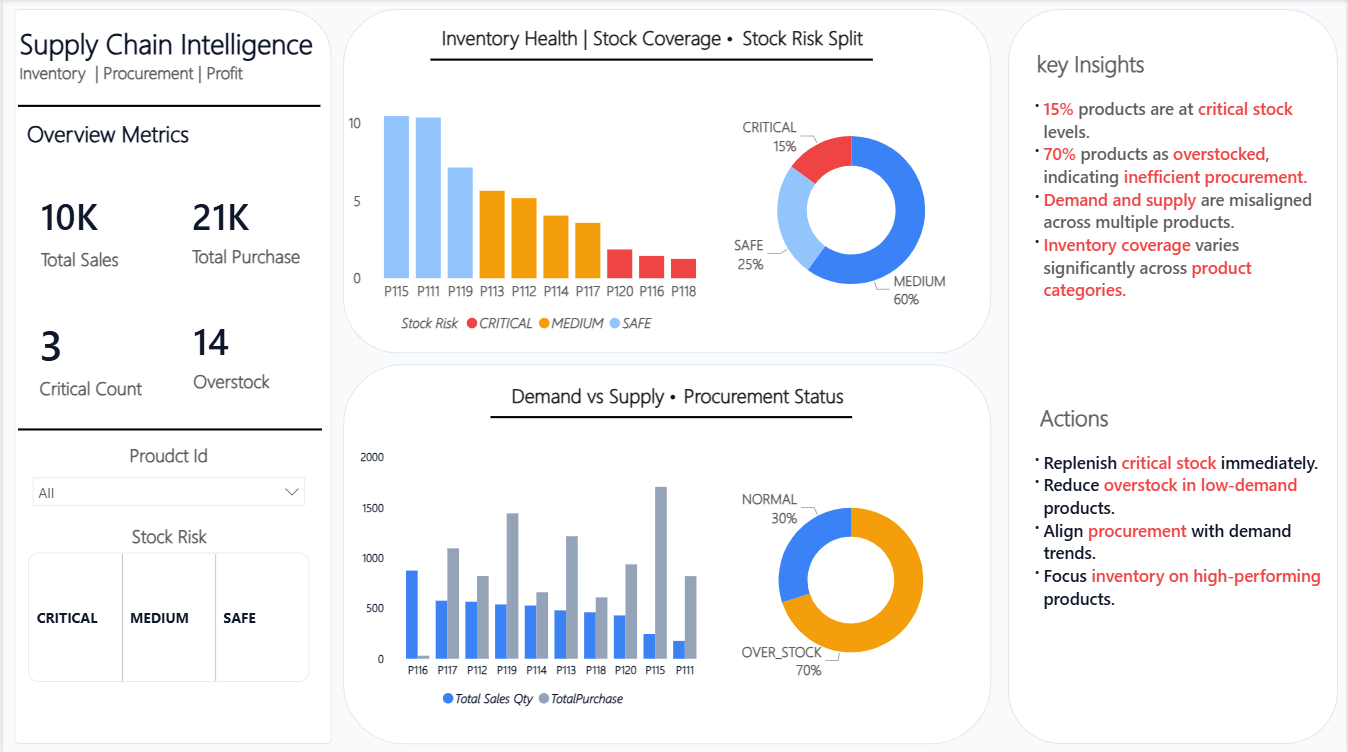

The dashboard page shown, as its layout file describes it:
{"tool":"powerbi","page":{"name":"Inventory and demenad","canvas":[1280,720],"ordinal":0},"visuals":[{"type":"shape","box":[10.7,9.5,302.4,700],"z":0},{"type":"textbox","box":[10.7,19,291.7,76.2],"z":1000},{"type":"shape","box":[323.8,9.6,617.5,328],"z":2000},{"type":"shape","box":[323.8,347.2,617.5,362.3],"z":3000},{"type":"shape","box":[957.1,9.5,314.3,700],"z":4000},{"type":"cardVisual","fields":{"Data":["sales.Total Sales Qty"]},"box":[19,165.5,139.3,107.1],"z":5000},{"type":"cardVisual","fields":{"Data":["Query1.TotalPurchase"]},"box":[163.1,165.5,139.3,107.1],"z":6000},{"type":"cardVisual","fields":{"Data":["Query1.Critical Count"]},"box":[17.9,284.5,139.3,107.1],"z":7000},{"type":"cardVisual","fields":{"Data":["Query2.Overstock Count"]},"box":[164.3,284.5,138.1,107.1],"z":8000},{"type":"shape","box":[14.3,95.2,288.1,13.1],"z":9000},{"type":"textbox","box":[17.9,108.3,284.5,40.5],"z":10000},{"type":"columnChart","title":"Stock Coverage","fields":{"Y":["inventory.Days Remaining"],"Category":["products.product_id"],"Series":["inventory.Stock Risk"]},"box":[323.8,75.5,354,252.5],"z":11000},{"type":"donutChart","fields":{"Category":["inventory.Stock Risk"],"Y":["CountNonNull(products.product_id)"]},"box":[688.9,75.5,237.4,252.5],"z":12000},{"type":"clusteredColumnChart","fields":{"Y":["sales.Total Sales Qty","Query1.TotalPurchase"],"Category":["products.product_id"]},"box":[335.7,422.6,341.7,261.9],"z":13000},{"type":"donutChart","fields":{"Y":["CountNonNull(products.product_id)"],"Category":["Query2.stock_status"]},"box":[689.3,422.6,236.9,261.9],"z":14000},{"type":"textbox","box":[336.2,19.2,565.4,38.4],"z":15000},{"type":"shape","box":[407.5,49.4,421.3,17.8],"z":16000},{"type":"textbox","box":[357.3,359.5,565.4,38.4],"z":17000},{"type":"shape","box":[463.8,389.7,344.4,17.8],"z":18000},{"type":"textbox","box":[967.9,378.6,303.6,259.5],"z":19000},{"type":"shape","box":[13.7,397.9,289.5,24.7],"z":20000},{"type":"textbox","box":[967.9,41.7,292.9,319],"z":21000},{"type":"slicer","title":"Proudct Id","fields":{"Values":["products.product_id"]},"box":[17.9,422.6,279.8,77.4],"z":22000},{"type":"advancedSlicerVisual","fields":{"Values":["inventory.Stock Risk"]},"box":[19,500,278.6,156],"z":23000}]}

Visuals, with their boxes in screenshot pixels (x1, y1, x2, y2), scaled from the page's 1280x720 canvas onto the 1348x752 screenshot:
shape: pyautogui.locateOnScreen(11, 10, 330, 741)
textbox: pyautogui.locateOnScreen(11, 20, 318, 99)
shape: pyautogui.locateOnScreen(341, 10, 991, 353)
shape: pyautogui.locateOnScreen(341, 363, 991, 741)
shape: pyautogui.locateOnScreen(1008, 10, 1339, 741)
cardVisual - sales.Total Sales Qty: pyautogui.locateOnScreen(20, 173, 167, 285)
cardVisual - Query1.TotalPurchase: pyautogui.locateOnScreen(172, 173, 318, 285)
cardVisual - Query1.Critical Count: pyautogui.locateOnScreen(19, 297, 166, 409)
cardVisual - Query2.Overstock Count: pyautogui.locateOnScreen(173, 297, 318, 409)
shape: pyautogui.locateOnScreen(15, 99, 318, 113)
textbox: pyautogui.locateOnScreen(19, 113, 318, 155)
"Stock Coverage" columnChart: pyautogui.locateOnScreen(341, 79, 714, 343)
donutChart - inventory.Stock Risk x CountNonNull(products.product_id): pyautogui.locateOnScreen(725, 79, 976, 343)
clusteredColumnChart - sales.Total Sales Qty x Query1.TotalPurchase: pyautogui.locateOnScreen(354, 441, 713, 715)
donutChart - CountNonNull(products.product_id) x Query2.stock_status: pyautogui.locateOnScreen(726, 441, 975, 715)
textbox: pyautogui.locateOnScreen(354, 20, 949, 60)
shape: pyautogui.locateOnScreen(429, 52, 873, 70)
textbox: pyautogui.locateOnScreen(376, 375, 972, 416)
shape: pyautogui.locateOnScreen(488, 407, 851, 426)
textbox: pyautogui.locateOnScreen(1019, 395, 1339, 666)
shape: pyautogui.locateOnScreen(14, 416, 319, 441)
textbox: pyautogui.locateOnScreen(1019, 44, 1328, 377)
"Proudct Id" slicer: pyautogui.locateOnScreen(19, 441, 314, 522)
advancedSlicerVisual - inventory.Stock Risk: pyautogui.locateOnScreen(20, 522, 313, 685)
